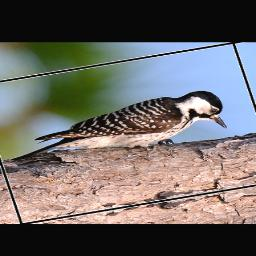Woodpecker: (0, 83, 240, 175)
